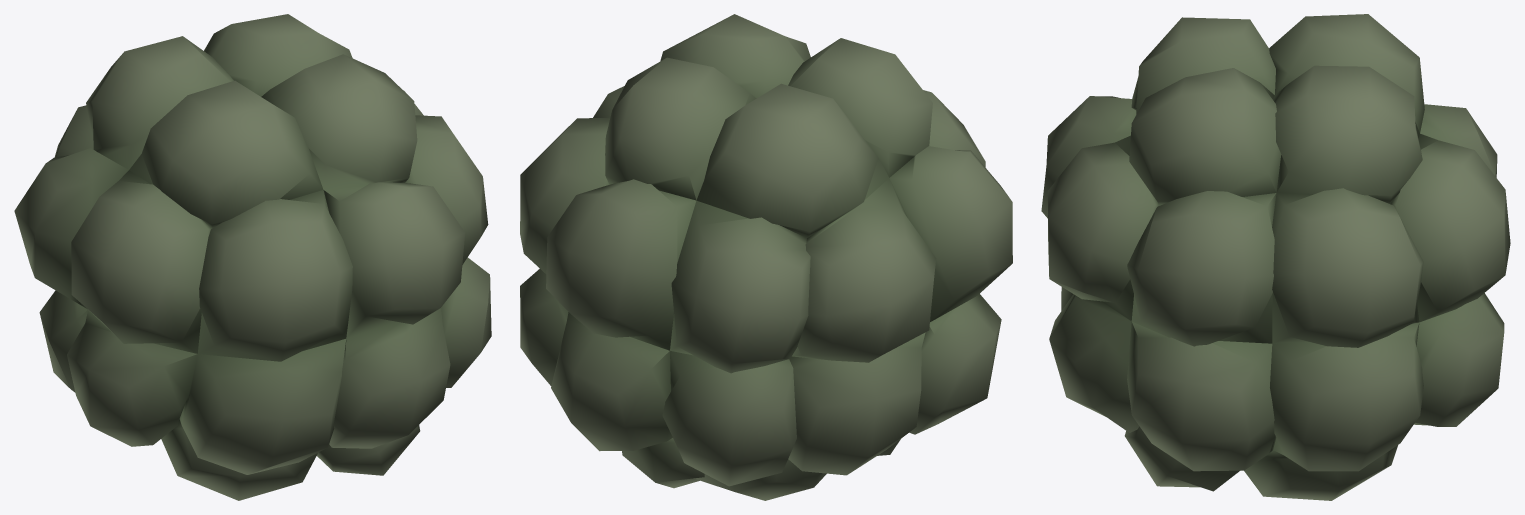
Rendered from microscopic-protists-algae-colony_v2.glb.
3 views of the same model, side by side, from view 1: azimuth 30°, elevation 25°; view 2: azimuth 150°, elevation 25°; view 3: azimuth 270°, elevation 25° (orthographic). The views are drawn at different scales.
Visible parts, largest first — view 1: Algae Colony_v2; view 2: Algae Colony_v2; view 3: Algae Colony_v2.
Boxes of the visible parts, bbox=[...] form: Algae Colony_v2: bbox=[14, 14, 491, 500]; Algae Colony_v2: bbox=[520, 14, 1012, 500]; Algae Colony_v2: bbox=[1041, 14, 1510, 500].
Bounding box in the file's own units: 0.1 × 0.0994 × 0.1.
